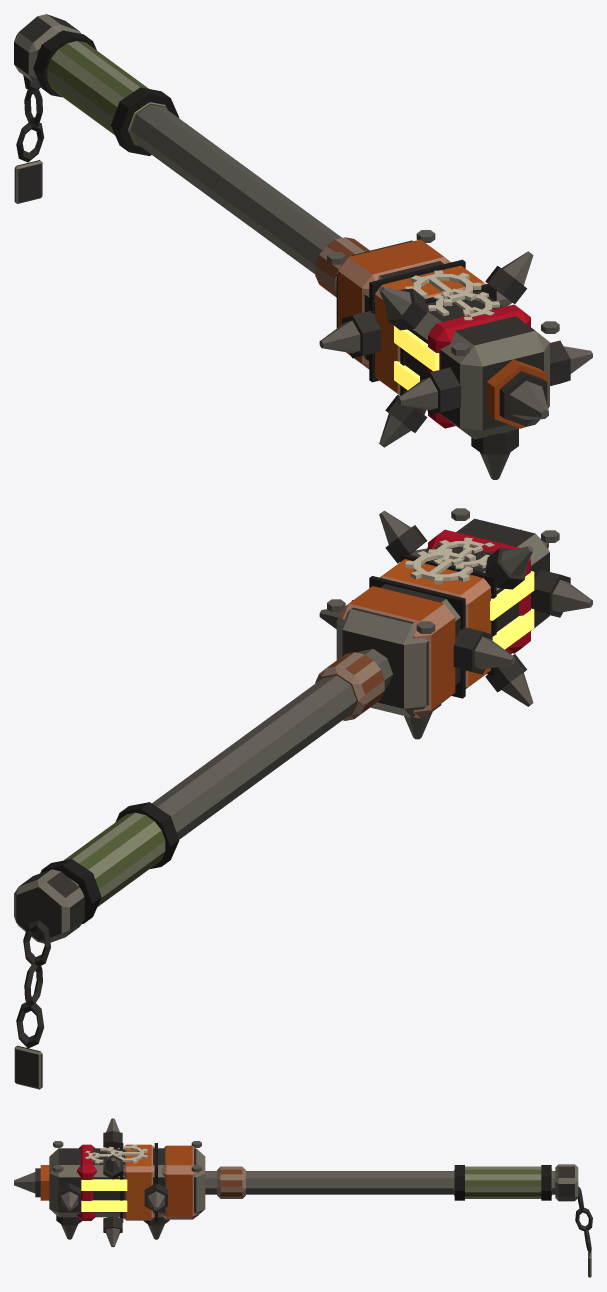
The model's file is w_brute_club.glb.
3 views of the same model, one above another, from view 1: azimuth 30°, elevation 25°; view 2: azimuth 150°, elevation 25°; view 3: azimuth 270°, elevation 25° (orthographic). The views are drawn at different scales.
Parts seen in each view (by area): view 1: w_brute_club; view 2: w_brute_club; view 3: w_brute_club.
Boxes of the visible parts, x1=… form: w_brute_club: x1=14, y1=14, x2=592, y2=479; w_brute_club: x1=14, y1=508, x2=592, y2=1089; w_brute_club: x1=14, y1=1118, x2=592, y2=1277.
Size of the model in its own units: 0.2138 by 0.2604 by 1.
